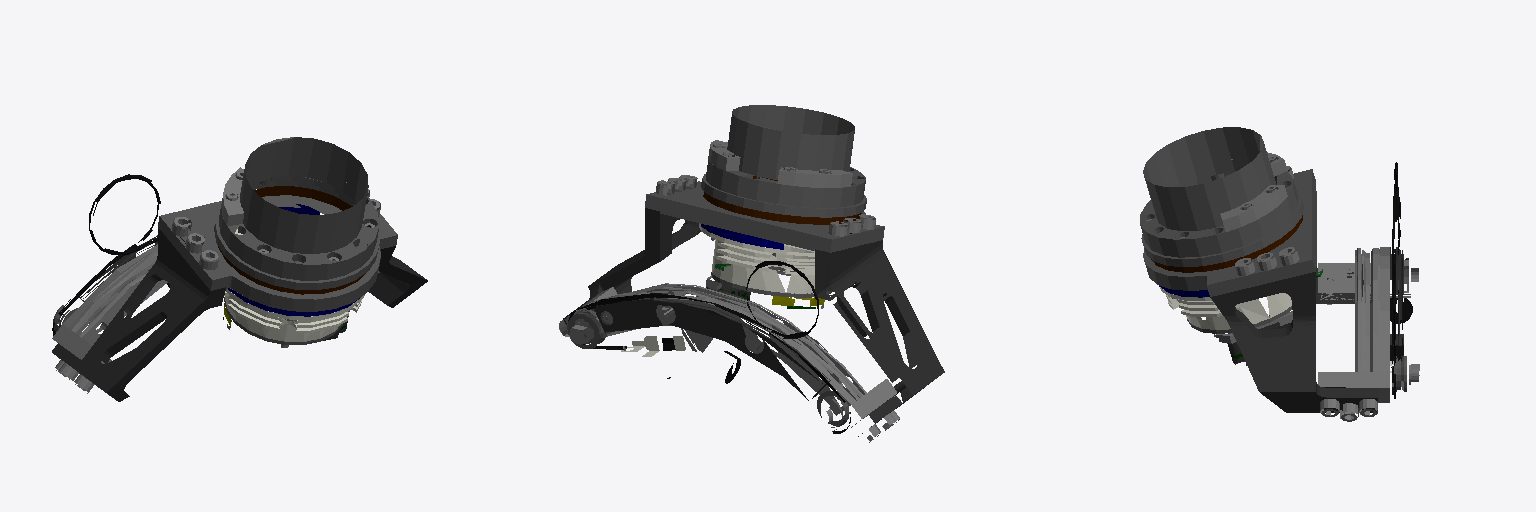
3 renders of one model, left to right at view 1: azimuth 30°, elevation 25°; view 2: azimuth 150°, elevation 25°; view 3: azimuth 270°, elevation 25°, orthographic.
Bounding box in the file's own units: 0.165 × 0.1156 × 0.1227.
Materials: 1 (1 with a texture image).